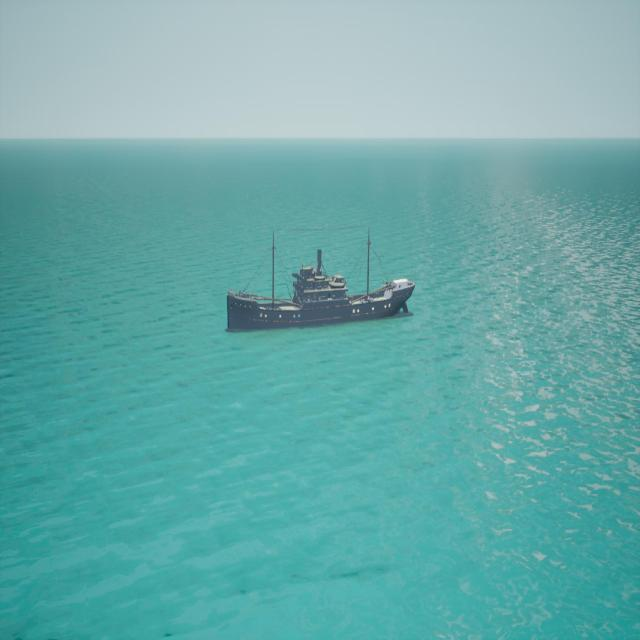fishing ship: (229, 228, 417, 334)
